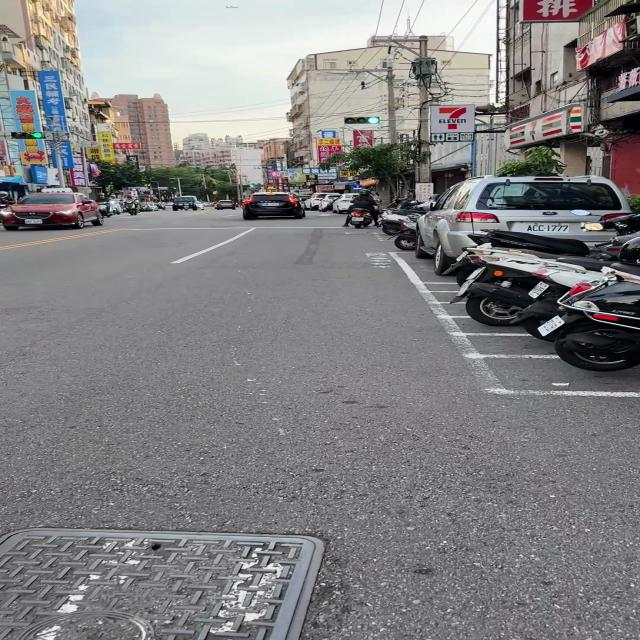car: (415, 175, 629, 271), (0, 192, 104, 230), (243, 192, 304, 220)
motocycle: (536, 268, 640, 371), (346, 208, 373, 229)
